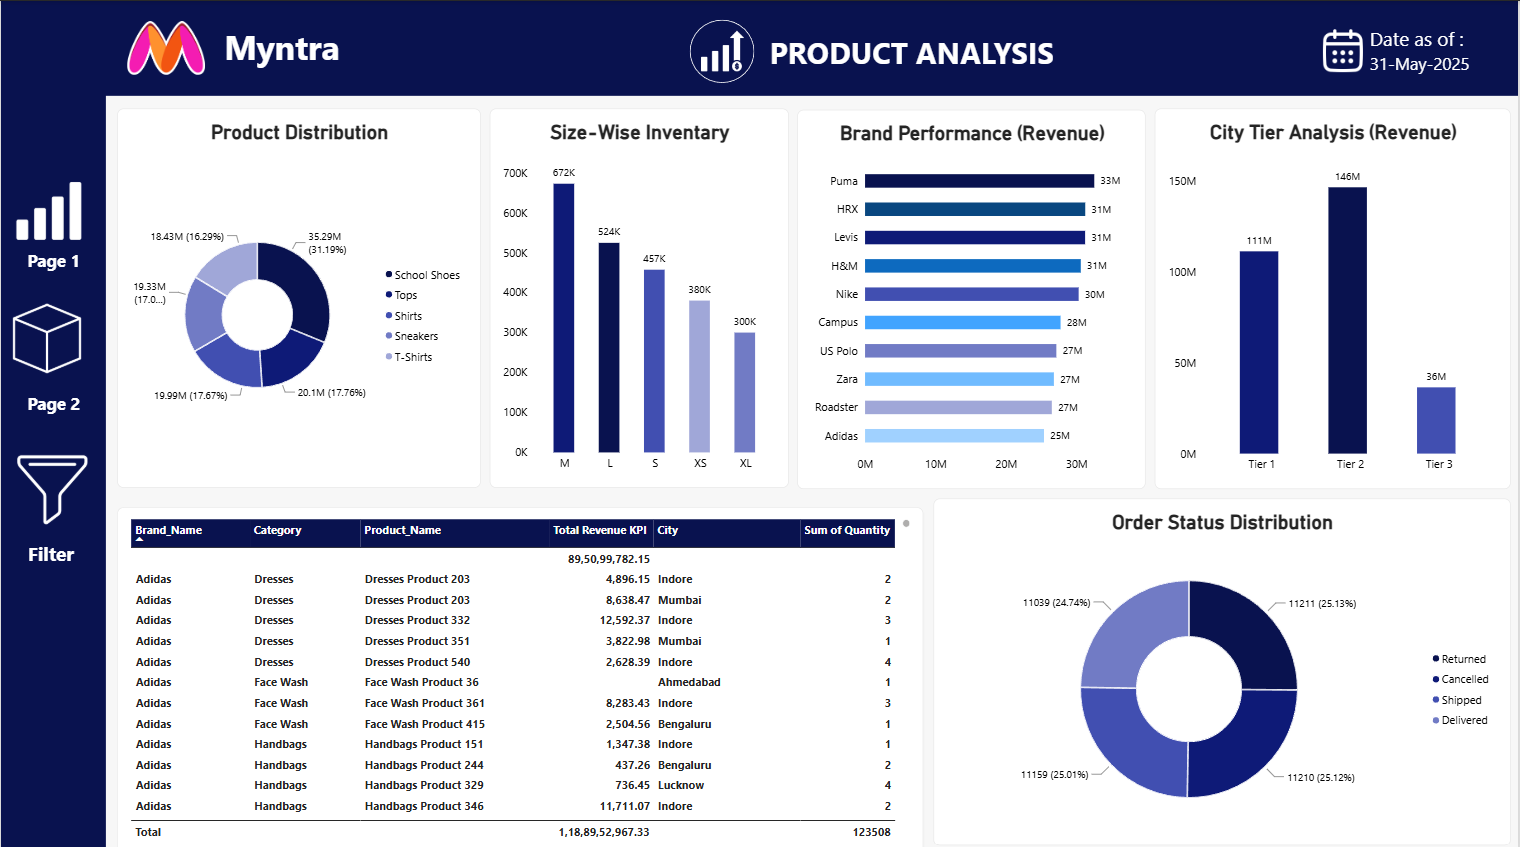

This screenshot's page, from the dashboard's own definition file:
{"tool":"powerbi","page":{"name":"Page 1","canvas":[1920,1080],"ordinal":0},"visuals":[{"type":"shape","box":[0,0,1920,112],"z":0},{"type":"image","box":[160,18,98.7,74.5],"z":0,"group":"g1"},{"type":"textbox","box":[179.4,21.4,320,61.2],"z":1000,"group":"g1"},{"type":"image","box":[16.7,381.1,86.7,123.3],"z":1000},{"type":"group","id":"g1","title":"Group 1","box":[160,18,338,74],"z":2000},{"type":"shape","box":[0,0,132.7,1080],"z":3000},{"type":"group","id":"g2","title":"Group 2","box":[883.7,21.2,422.3,64.3],"z":3000,"group":"g3"},{"type":"image","box":[883.7,21.2,56.6,64.3],"z":3000,"group":"g2"},{"type":"group","id":"g3","title":"Group 3","box":[870,18,436,74],"z":4000},{"type":"shape","box":[870,18,83,74],"z":4000,"group":"g3"},{"type":"textbox","box":[974,32.6,332,51.5],"z":4000,"group":"g2"},{"type":"slicer","fields":{"Values":["myntra_web_catalog.Brand_Name"]},"box":[146.7,133.3,253.3,440],"z":5000},{"type":"image","box":[1659.1,21.8,65,75],"z":6000,"group":"g5"},{"type":"slicer","fields":{"Values":["myntra_festive_orders.City_Tier"]},"box":[148.3,878.3,253.3,186.7],"z":6000},{"type":"slicer","fields":{"Values":["myntra_festive_orders.Category"]},"box":[148.2,595.5,251.8,260.9],"z":7000},{"type":"image","box":[16.2,187.8,86.7,123.3],"z":8000,"group":"g4"},{"type":"image","box":[13.3,381.7,98.3,98.3],"z":8000},{"type":"image","box":[16.8,557.9,95.2,88.7],"z":9000},{"type":"pageNavigator","box":[12.5,300.4,99.6,222.9],"z":10000,"group":"g4"},{"type":"textbox","box":[14.5,668.2,98,50],"z":10000},{"type":"shape","box":[1425,133.3,480,293.3],"z":11000},{"type":"shape","box":[921.7,133.3,480,293.3],"z":12000},{"type":"shape","box":[418.3,133.3,480,293.3],"z":13000},{"type":"cardVisual","fields":{"Data":["myntra_orders_master.Total Orders KPI"]},"box":[565.7,122.9,245,156.7],"z":14000},{"type":"textbox","box":[1731.4,24.2,188,80.2],"z":14001,"group":"g6"},{"type":"image","box":[435,151.7,130,98.3],"z":15000},{"type":"areaChart","fields":{"Category":["myntra_festive_orders.Order_Date.Variation.Date Hierarchy.Year","myntra_festive_orders.Order_Date.Variation.Date Hierarchy.Quarter"],"Y":["CountNonNull(myntra_orders_master.Order_ID)"]},"box":[395.5,258.5,522,188],"z":16000},{"type":"cardVisual","fields":{"Data":["myntra_festive_orders.Orders Growth Label"]},"box":[594.3,220,275,90],"z":17000},{"type":"image","box":[941.4,151.4,128.6,98.6],"z":18000},{"type":"cardVisual","fields":{"Data":["myntra_festive_orders.Total Revenue Display"]},"box":[960,74.3,480,255.7],"z":19000},{"type":"cardVisual","fields":{"Data":["myntra_festive_orders.Revenue Growth Label"]},"box":[1115.7,241.4,191.4,48.6],"z":20000},{"type":"areaChart","fields":{"Category":["myntra_festive_orders.Delivered_Date.Variation.Date Hierarchy.Year","myntra_festive_orders.Delivered_Date.Variation.Date Hierarchy.Month"],"Y":["Sum(myntra_festive_orders.Net_Revenue)"]},"box":[898.5,240,523,203],"z":21000},{"type":"donutChart","title":"Order By City Tier","fields":{"Series":["myntra_orders_master.City_Tier"],"Y":["CountNonNull(myntra_orders_master.Order_ID)"]},"box":[1425,133.8,480,293.8],"z":22000},{"type":"columnChart","title":"Orders By Category","fields":{"Category":["myntra_festive_orders.Category"],"Y":["CountNonNull(myntra_festive_orders.Order_ID)"]},"box":[418.3,446.7,705,617.5],"z":23000},{"type":"barChart","title":"Orders By Brand","fields":{"Category":["myntra_festive_orders.Brand_Name"],"Y":["CountNonNull(myntra_festive_orders.Order_ID)"]},"box":[1140,446.7,765,617.5],"z":24000},{"type":"group","id":"g4","title":"Group 4","box":[12.5,187.8,99.6,335.5],"z":25000},{"type":"group","id":"g5","title":"Group 5","box":[1659.1,21.8,260.3,82.6],"z":26000},{"type":"group","id":"g6","title":"Group 4","box":[1731.4,24.2,188,80.2],"z":26001,"group":"g5"}]}

Visuals, with their boxes on the page's 1920x1080 design canvas (x1, y1, x2, y2). These are canvas units, not pixel positions in the 1520x847 screenshot, which may show the page scaled, cropped or inside an application window:
shape: <bbox>0, 0, 1920, 112</bbox>
image: <bbox>160, 18, 259, 92</bbox>
textbox: <bbox>179, 21, 499, 83</bbox>
image: <bbox>17, 381, 103, 504</bbox>
"Group 1" group: <bbox>160, 18, 498, 92</bbox>
shape: <bbox>0, 0, 133, 1080</bbox>
"Group 2" group: <bbox>884, 21, 1306, 86</bbox>
image: <bbox>884, 21, 940, 86</bbox>
"Group 3" group: <bbox>870, 18, 1306, 92</bbox>
shape: <bbox>870, 18, 953, 92</bbox>
textbox: <bbox>974, 33, 1306, 84</bbox>
slicer - myntra_web_catalog.Brand_Name: <bbox>147, 133, 400, 573</bbox>
image: <bbox>1659, 22, 1724, 97</bbox>
slicer - myntra_festive_orders.City_Tier: <bbox>148, 878, 402, 1065</bbox>
slicer - myntra_festive_orders.Category: <bbox>148, 596, 400, 856</bbox>
image: <bbox>16, 188, 103, 311</bbox>
image: <bbox>13, 382, 112, 480</bbox>
image: <bbox>17, 558, 112, 647</bbox>
pageNavigator: <bbox>12, 300, 112, 523</bbox>
textbox: <bbox>14, 668, 112, 718</bbox>
shape: <bbox>1425, 133, 1905, 427</bbox>
shape: <bbox>922, 133, 1402, 427</bbox>
shape: <bbox>418, 133, 898, 427</bbox>
cardVisual - myntra_orders_master.Total Orders KPI: <bbox>566, 123, 811, 280</bbox>
textbox: <bbox>1731, 24, 1919, 104</bbox>
image: <bbox>435, 152, 565, 250</bbox>
areaChart - myntra_festive_orders.Order_Date.Variation.Date Hierarchy.Year x myntra_festive_orders.Order_Date.Variation.Date Hierarchy.Quarter: <bbox>396, 258, 918, 446</bbox>
cardVisual - myntra_festive_orders.Orders Growth Label: <bbox>594, 220, 869, 310</bbox>
image: <bbox>941, 151, 1070, 250</bbox>
cardVisual - myntra_festive_orders.Total Revenue Display: <bbox>960, 74, 1440, 330</bbox>
cardVisual - myntra_festive_orders.Revenue Growth Label: <bbox>1116, 241, 1307, 290</bbox>
areaChart - myntra_festive_orders.Delivered_Date.Variation.Date Hierarchy.Year x myntra_festive_orders.Delivered_Date.Variation.Date Hierarchy.Month: <bbox>898, 240, 1422, 443</bbox>
"Order By City Tier" donutChart: <bbox>1425, 134, 1905, 428</bbox>
"Orders By Category" columnChart: <bbox>418, 447, 1123, 1064</bbox>
"Orders By Brand" barChart: <bbox>1140, 447, 1905, 1064</bbox>
"Group 4" group: <bbox>12, 188, 112, 523</bbox>
"Group 5" group: <bbox>1659, 22, 1919, 104</bbox>
"Group 4" group: <bbox>1731, 24, 1919, 104</bbox>
